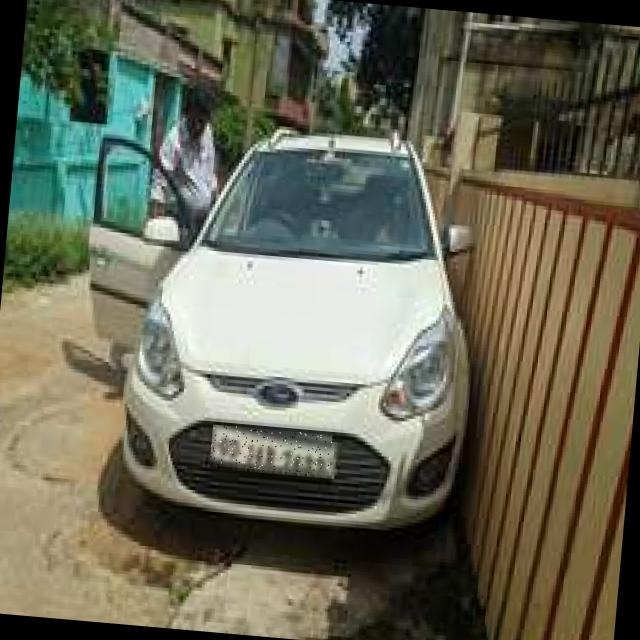Plate: (211, 426, 334, 476)
